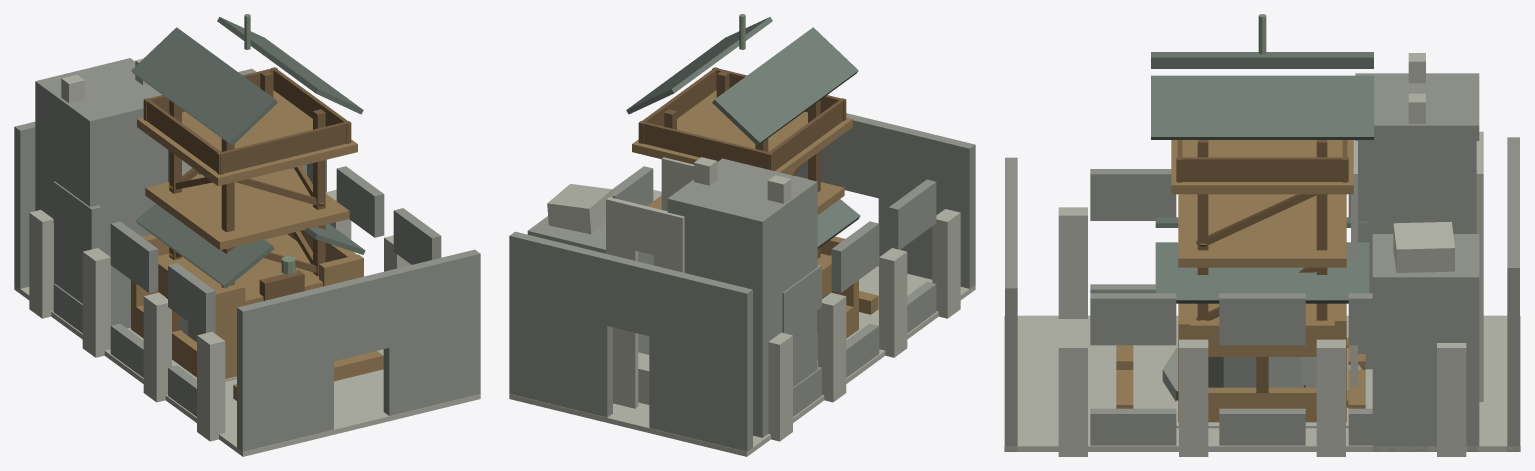
The model's file is western_environment_kit_v1.glb.
3 views of the same model, side by side, from view 1: azimuth 30°, elevation 25°; view 2: azimuth 150°, elevation 25°; view 3: azimuth 270°, elevation 25° (orthographic). The views are drawn at different scales.
Visible parts, largest first — view 1: OldRainwardAbbey, GalehornWatch, RainwardWaystation; view 2: OldRainwardAbbey, GalehornWatch, RainwardWaystation; view 3: OldRainwardAbbey, GalehornWatch, RainwardWaystation.
Part boxes in pixels (bbox=[...]): OldRainwardAbbey: bbox=[14, 58, 480, 456]; GalehornWatch: bbox=[131, 14, 363, 341]; RainwardWaystation: bbox=[128, 204, 365, 381]; OldRainwardAbbey: bbox=[509, 113, 975, 456]; GalehornWatch: bbox=[626, 14, 858, 264]; RainwardWaystation: bbox=[817, 199, 861, 366]; OldRainwardAbbey: bbox=[1004, 53, 1520, 456]; GalehornWatch: bbox=[1151, 14, 1373, 401]; RainwardWaystation: bbox=[1155, 217, 1369, 428].
Bounding box in the file's own units: 19.35 × 23.8 × 30.
